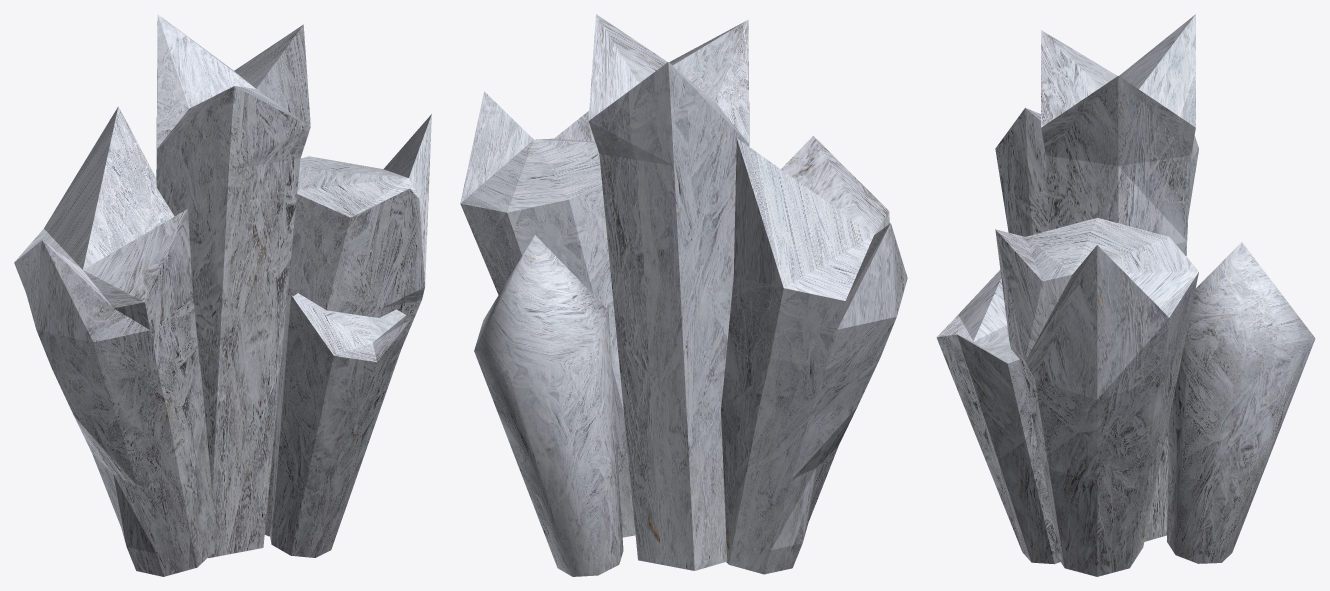
File: LampLight_3DAsset_PinkCrystalCracked.FBX
3 renders of one model, left to right at view 1: azimuth 30°, elevation 25°; view 2: azimuth 150°, elevation 25°; view 3: azimuth 270°, elevation 25°, orthographic. The views are drawn at different scales.
Visible parts, largest first — view 1: Left_PinkCrystal001, Middle_LargePinkCrystal001, Front_Small_PinkCrystal001, Right_PinkCrystal001; view 2: Middle_LargePinkCrystal001, Left_PinkCrystal001, Back_Small_PinkCrystal001, Right_PinkCrystal001; view 3: Right_PinkCrystal001, Back_Small_PinkCrystal001, Middle_LargePinkCrystal001, Front_Small_PinkCrystal001, Left_PinkCrystal001.
Boxes of the visible parts, box(x1,y1,x2,y2) form: Left_PinkCrystal001: box(14, 106, 215, 576); Middle_LargePinkCrystal001: box(156, 14, 310, 557); Front_Small_PinkCrystal001: box(270, 293, 411, 557); Right_PinkCrystal001: box(264, 114, 431, 536); Middle_LargePinkCrystal001: box(588, 14, 749, 570); Left_PinkCrystal001: box(721, 136, 907, 574); Back_Small_PinkCrystal001: box(474, 235, 623, 576); Right_PinkCrystal001: box(460, 91, 635, 537); Right_PinkCrystal001: box(995, 217, 1198, 576); Back_Small_PinkCrystal001: box(1167, 242, 1315, 563); Middle_LargePinkCrystal001: box(1041, 14, 1195, 541); Front_Small_PinkCrystal001: box(936, 270, 1062, 564); Left_PinkCrystal001: box(995, 108, 1198, 236).
Size of the model in its own units: 28.43 by 34.63 by 23.4.
